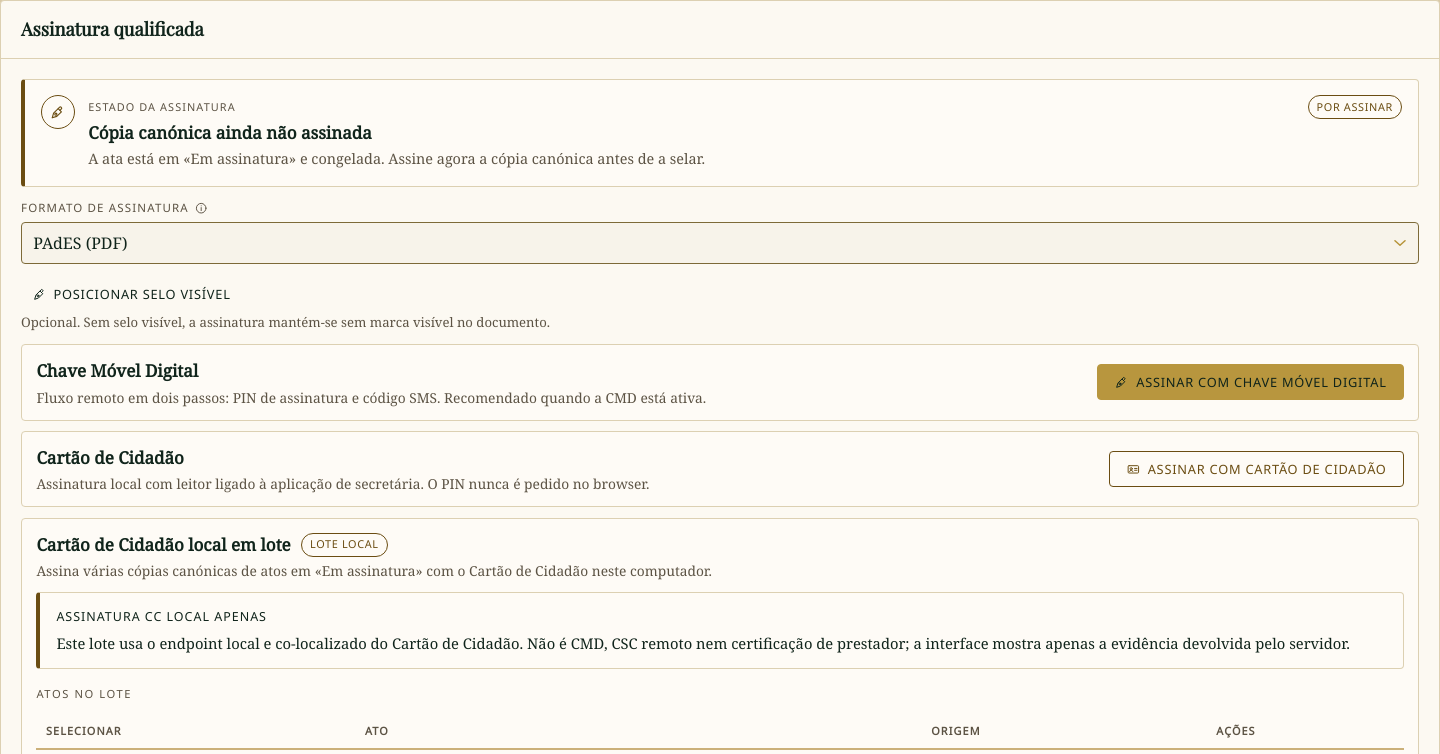
it: SigningPanel — Cartão de Cidadão › renders an honest co-location note on a 409 (not co-located)
Click the button "Assinar com Cartão de Cidadão".
click(1256, 469)  # box [1109,451,1404,487]
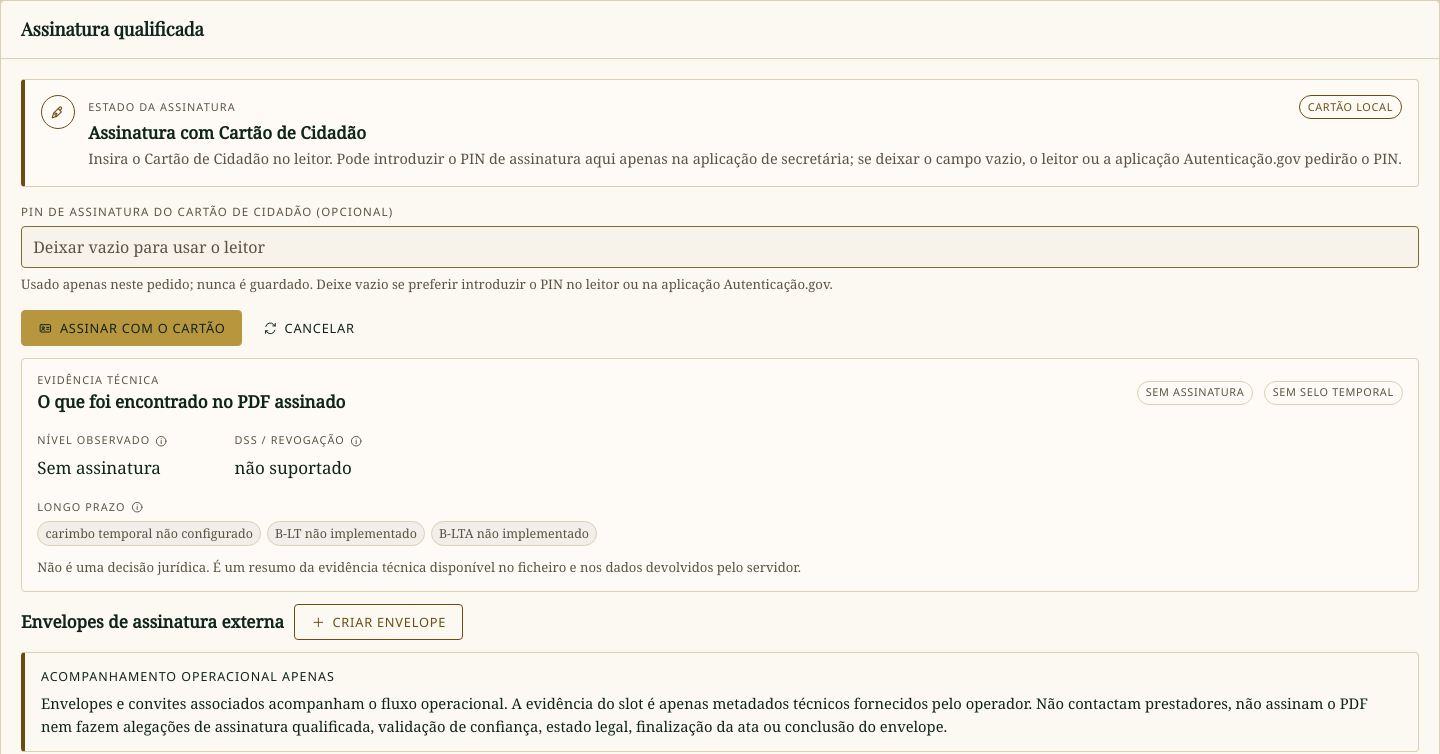
Click the button "Assinar com o cartão".
click(132, 328)  # box [21,310,242,346]
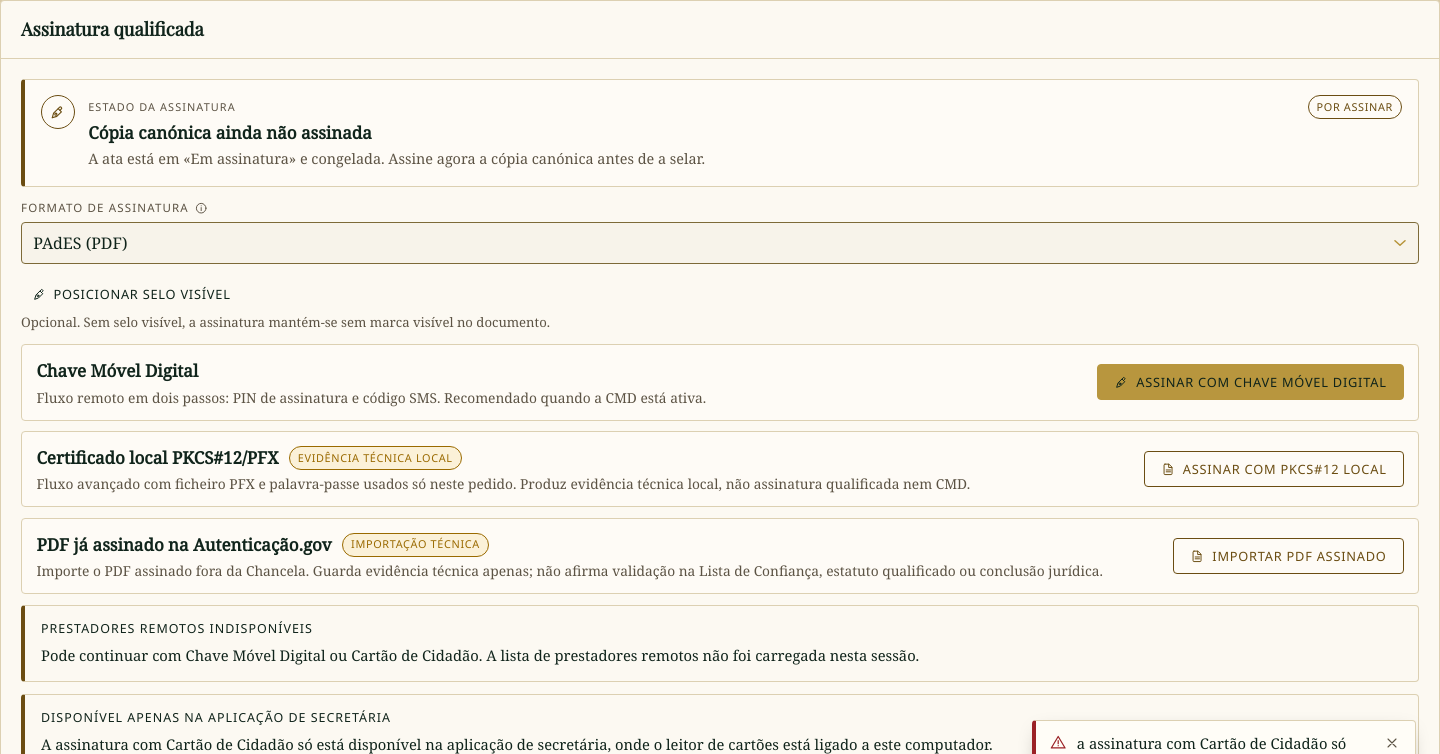
Check: the button "Assinar com Cartão de Cidadão" is not shown
Check: the text "Disponível apenas na aplicação de secretária" is shown, box [41,709,391,726]
